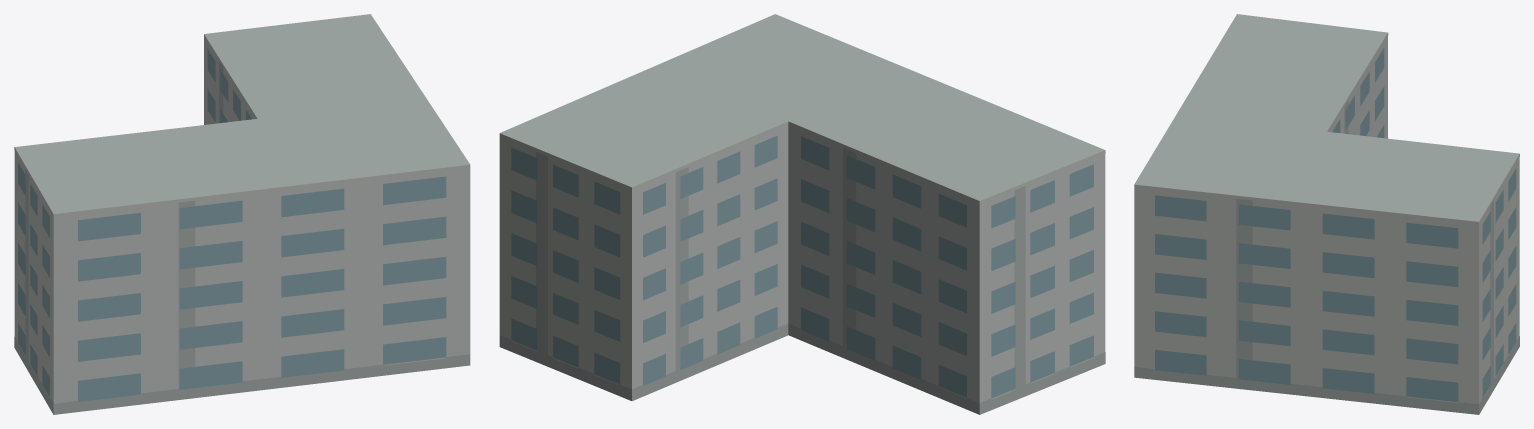
File: survey-upis-32820038.glb
The picture shows the model from 3 angles, left to right: view 1: azimuth 30°, elevation 25°; view 2: azimuth 150°, elevation 25°; view 3: azimuth 270°, elevation 25°; orthographic projection. The views are drawn at different scales.
Parts seen in each view (by area): view 1: survey-upis-32820038.tmp; view 2: survey-upis-32820038.tmp; view 3: survey-upis-32820038.tmp.
Part boxes in pixels (box(x1,y1,x2,y2)): survey-upis-32820038.tmp: box(14, 14, 470, 414); survey-upis-32820038.tmp: box(499, 14, 1105, 414); survey-upis-32820038.tmp: box(1134, 14, 1519, 414).
Size of the model in its own units: 35.22 by 15.25 by 27.62.
